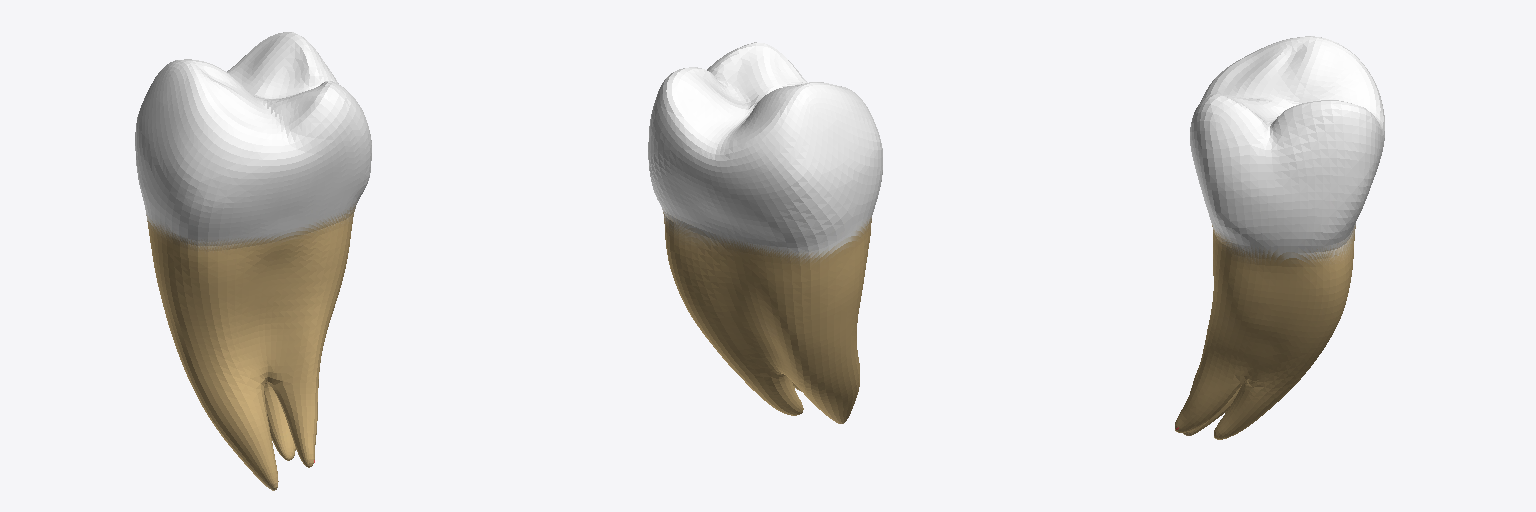
The picture shows the model from 3 angles: view 1: azimuth 30°, elevation 25°; view 2: azimuth 150°, elevation 25°; view 3: azimuth 270°, elevation 25°; orthographic projection.
Visible parts, largest first — view 1: outer; view 2: outer; view 3: outer.
Part boxes in pixels (x1,y1,x2,y2): outer: (135,32,371,490); outer: (648,42,882,423); outer: (1175,36,1384,439).
Size of the model in its own units: 3.82 by 7.21 by 3.55.
2 materials, 1 textured.